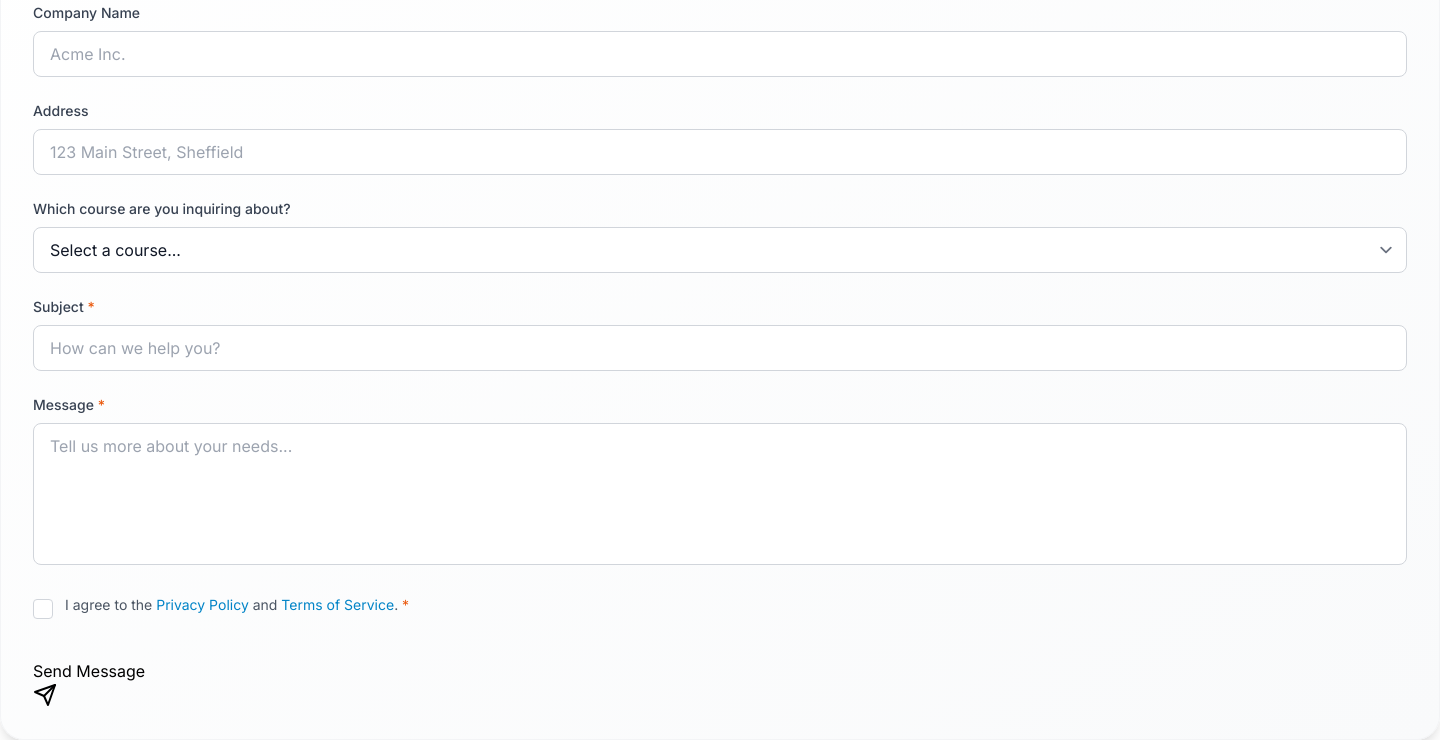
Test: ContactForm Component › shows validation errors for required fields
(page scrolled)
Click the button "Send Message": (89, 683) [33,659,145,707]
(page scrolled)
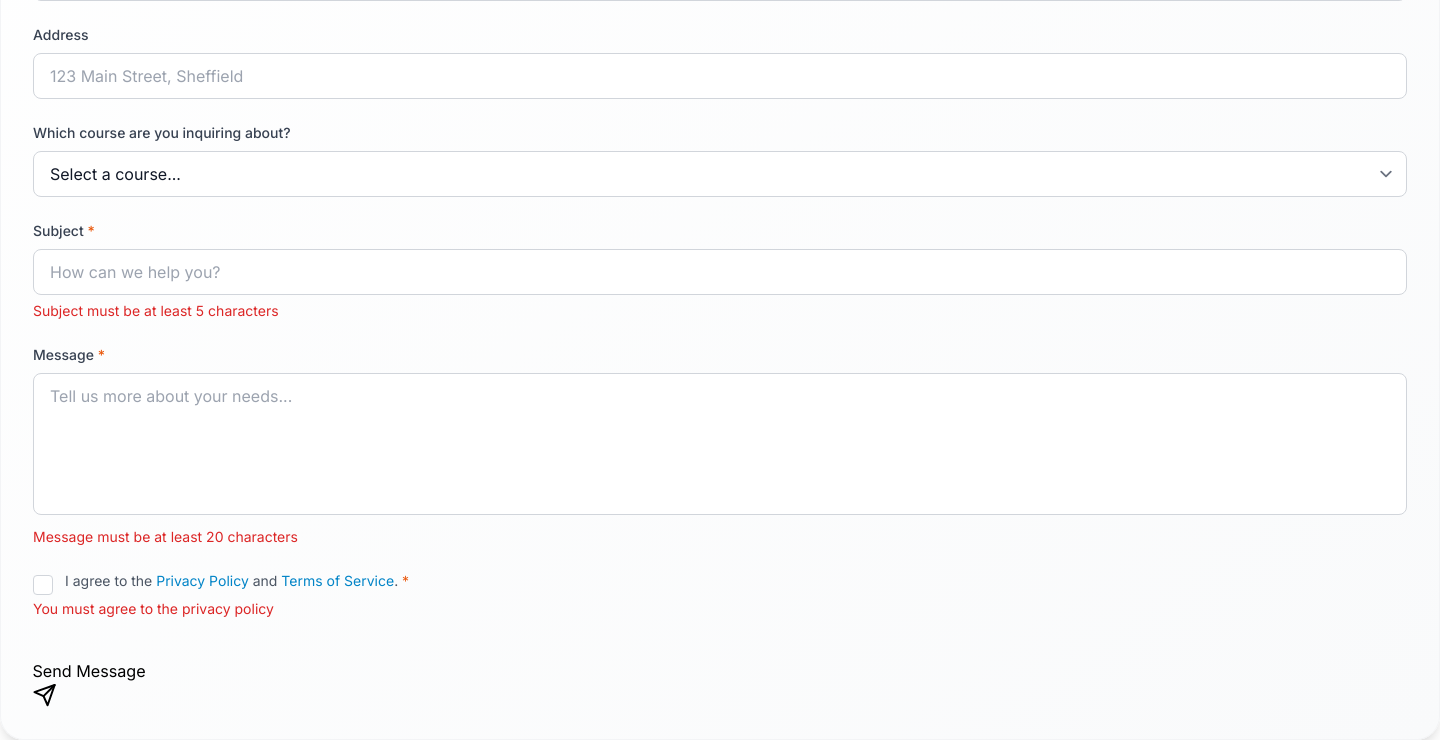
Expected: the text "Subject must be at least 5 characters" is shown, [33,302,279,319]
Expected: the text "Message must be at least 20 characters" is shown, [33,528,298,545]
Expected: the text "You must agree to the privacy policy" is shown, [33,600,274,617]
